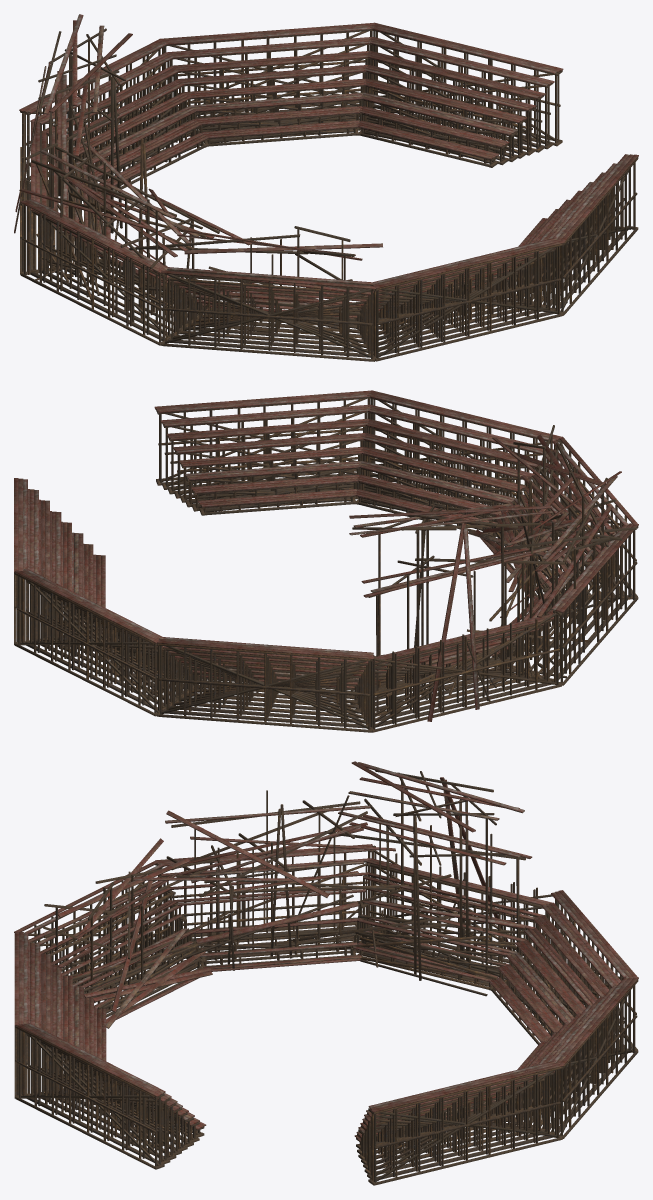
File: P_WoodenChair01.fbx
3 renders of one model, top to bottom at view 1: azimuth 30°, elevation 25°; view 2: azimuth 150°, elevation 25°; view 3: azimuth 270°, elevation 25°, orthographic.
Parts seen in each view (by area): view 1: P_WoodenChair01; view 2: P_WoodenChair01; view 3: P_WoodenChair01.
Part boxes in pixels (x1,y1,x2,y2): P_WoodenChair01: (14,14,638,361); P_WoodenChair01: (14,390,638,732); P_WoodenChair01: (14,761,638,1185).
Size of the model in its own units: 8596 by 2682 by 8484.
